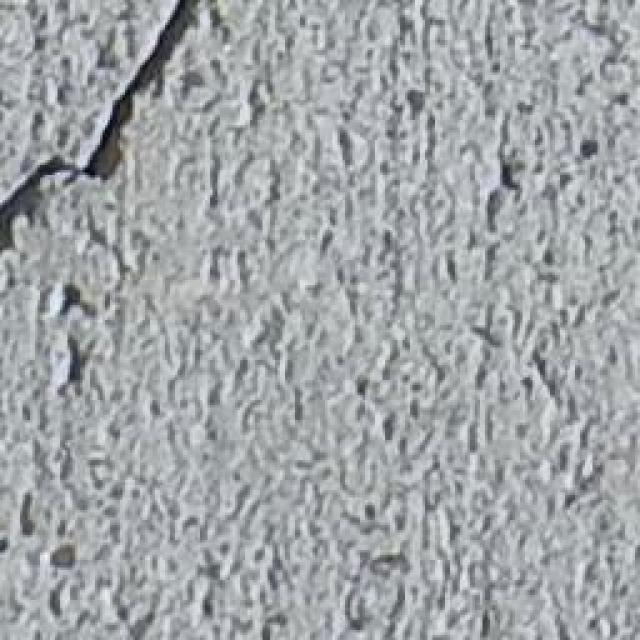concrete-crack: (2, 0, 202, 251)
